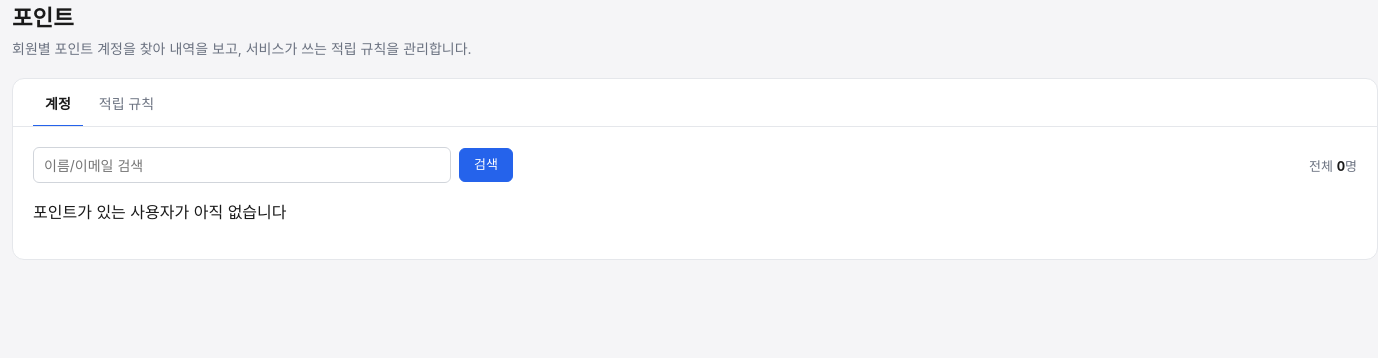
Test: PointsPage › toggles a rule on and off from the status pill
Click the button "적립 규칙". click: point(126, 103)
box: [87, 79, 166, 127]
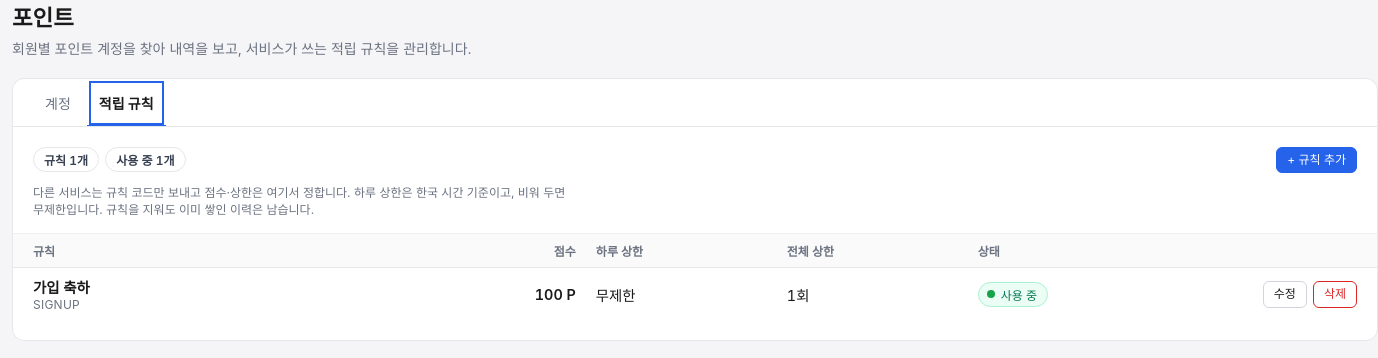
Click the button with aria-label "SIGNUP 사용 중". click: point(1013, 294)
box: [978, 282, 1048, 307]
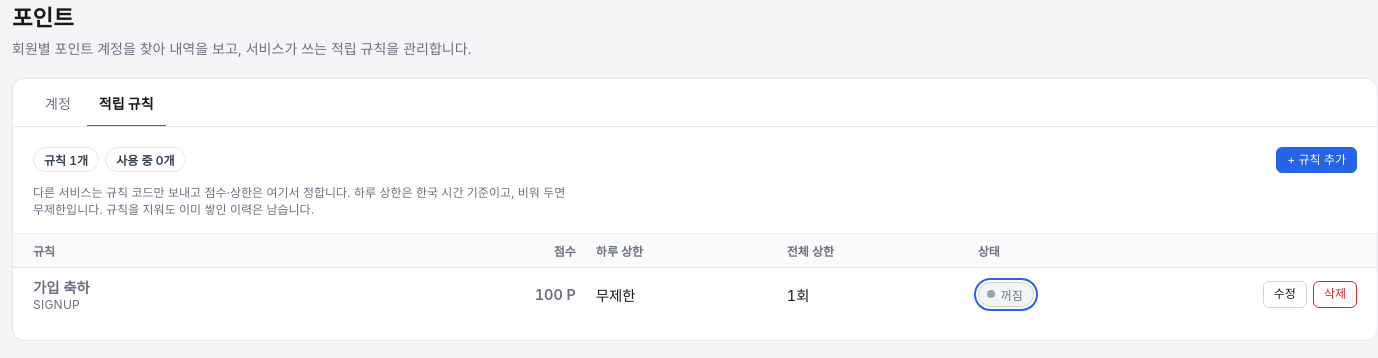
expect the button with aria-label "SIGNUP 꺼짐" is shown: met, box [978, 282, 1034, 307]
